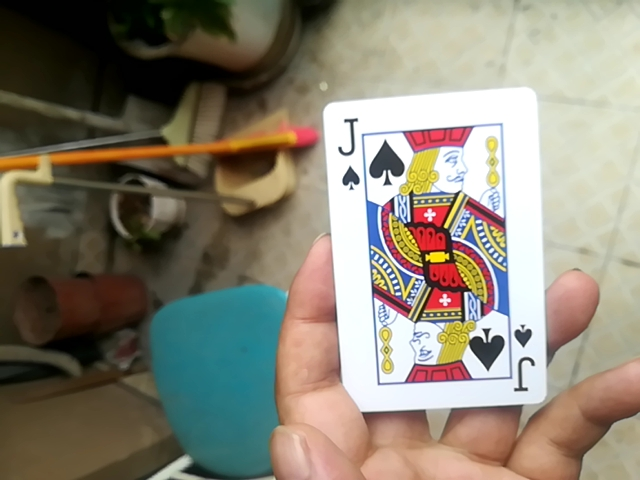ht j: (322, 89, 551, 420)
